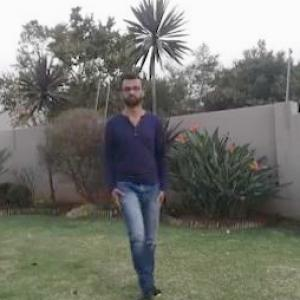follow: (109, 74, 170, 282)
